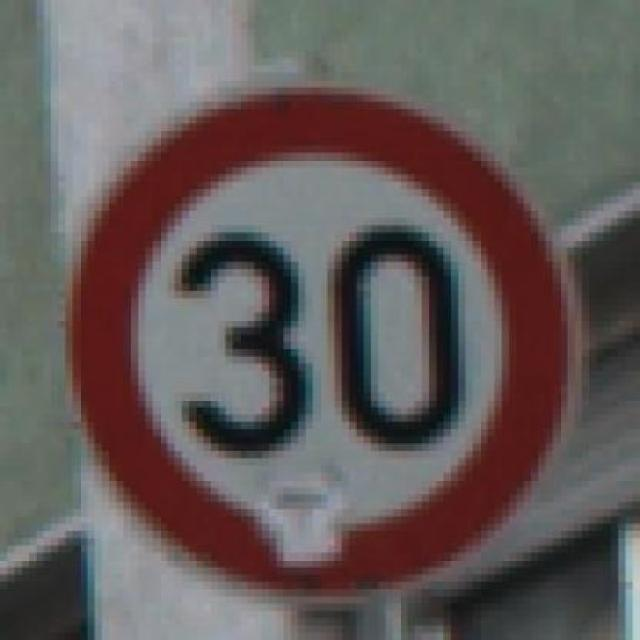Speed Limit 30 KMPh: (29, 66, 589, 612)
